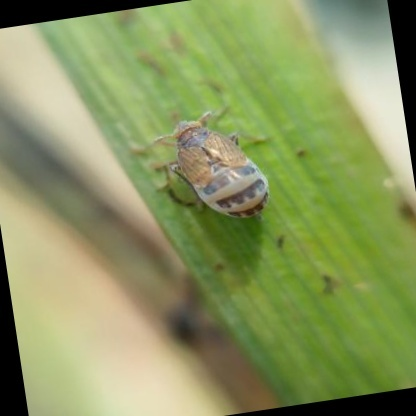Brown_hopper: (128, 73, 304, 249)
